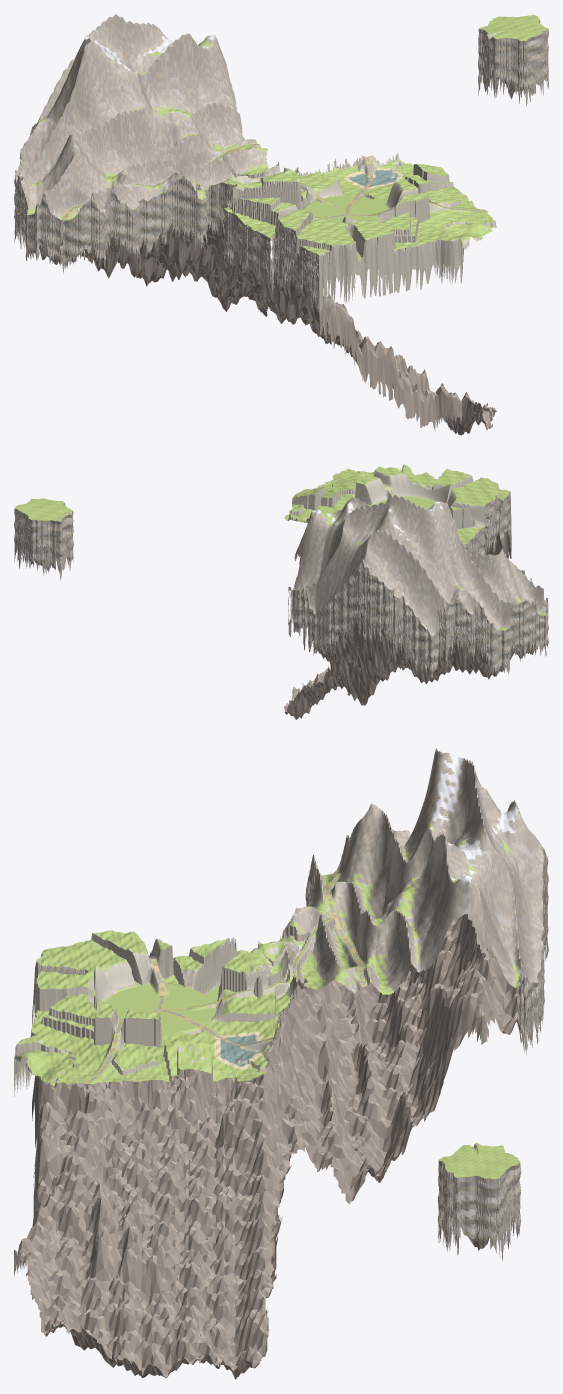
File: Floor1_Ancient_Ruins.fbx
3 renders of one model, top to bottom at view 1: azimuth 30°, elevation 25°; view 2: azimuth 150°, elevation 25°; view 3: azimuth 270°, elevation 25°, orthographic. The views are drawn at different scales.
Visible parts, largest first — view 1: Ancient_Ruins_Top__F1_Ruins_Stone_3, Cloudridge_Peaks_Top__F1_Rock_7, Cloudridge_Peaks_Top__F1_Rock_10, Cloudridge_Peaks_Top__F1_Rock_1, Cloudridge_Peaks_Top__F1_Rock_Strata_4, Ancient_Ruins_Underside__F1_Rock_Under_Strata_6, Cloudridge_Peaks_Cliffs__F1_Rock_Strata_6, Cloudridge_Peaks_Cliffs__F1_Rock_6, Cloudridge_Peaks_Cliffs__F1_Rock_Light_6, Ancient_Ruins_Top__F1_Ruins_Stone_1, Cloudridge_Peaks_Top__F1_Rock_29, Cloudridge_Peaks_Top__F1_Rock_Strata_9 (+59 smaller); view 2: Cloudridge_Peaks_Cliffs__F1_Rock_Light_9, Cloudridge_Peaks_Cliffs__F1_Rock_9, Cloudridge_Peaks_Cliffs__F1_Rock_Strata_8, Cloudridge_Peaks_Cliffs__F1_Rock_4, Cloudridge_Peaks_Cliffs__F1_Rock_Light_4, Cloudridge_Peaks_Cliffs__F1_Rock_Strata_4, Cloudridge_Peaks_Top__F1_Rock_1, Cloudridge_Peaks_Top__F1_Rock_4, Secret_Cloud_Perch_Cliffs__F1_Rock, Ancient_Ruins_Top__F1_Ruins_Stone_3, Cloudridge_Peaks_Top__F1_Rock_15, Cloudridge_Peaks_Top__F1_Rock_Strata_4 (+56 smaller); view 3: Ancient_Ruins_Underside__F1_Rock_Under_22, Ancient_Ruins_Underside__F1_Rock_Under_Strata_6, Ancient_Ruins_Underside__F1_Rock_Under_Strata_25, Ancient_Ruins_Underside__F1_Rock_Under_19, Ancient_Ruins_Underside__F1_Rock_Under_24, Ancient_Ruins_Underside__F1_Rock_Under_Strata_20, Cloudridge_Peaks_Underside__F1_Rock_Under_18, Ancient_Ruins_Underside__F1_Rock_Under_Strata_13, Cloudridge_Peaks_Underside__F1_Rock_Under_Strata_12, Cloudridge_Peaks_Underside__F1_Rock_Under_21, Cloudridge_Peaks_Underside__F1_Rock_Under_Strata_10, Ancient_Ruins_Underside__F1_Rock_Under_14 (+69 smaller).
Boxes of the visible parts, x1,y1,x2,y2 form: Ancient_Ruins_Top__F1_Ruins_Stone_3: [275, 204, 425, 310]; Cloudridge_Peaks_Top__F1_Rock_7: [100, 109, 190, 185]; Cloudridge_Peaks_Top__F1_Rock_10: [71, 14, 159, 103]; Cloudridge_Peaks_Top__F1_Rock_1: [19, 124, 118, 219]; Cloudridge_Peaks_Top__F1_Rock_Strata_4: [31, 77, 139, 184]; Ancient_Ruins_Underside__F1_Rock_Under_Strata_6: [266, 272, 404, 404]; Cloudridge_Peaks_Cliffs__F1_Rock_Strata_6: [99, 183, 216, 256]; Cloudridge_Peaks_Cliffs__F1_Rock_6: [99, 176, 216, 257]; Cloudridge_Peaks_Cliffs__F1_Rock_Light_6: [99, 179, 216, 258]; Ancient_Ruins_Top__F1_Ruins_Stone_1: [227, 167, 318, 233]; Cloudridge_Peaks_Top__F1_Rock_29: [164, 58, 260, 159]; Cloudridge_Peaks_Top__F1_Rock_Strata_9: [121, 82, 187, 185]; Cloudridge_Peaks_Cliffs__F1_Rock_Light_9: [348, 567, 439, 673]; Cloudridge_Peaks_Cliffs__F1_Rock_9: [348, 564, 439, 674]; Cloudridge_Peaks_Cliffs__F1_Rock_Strata_8: [348, 563, 439, 672]; Cloudridge_Peaks_Cliffs__F1_Rock_4: [461, 599, 548, 668]; Cloudridge_Peaks_Cliffs__F1_Rock_Light_4: [461, 591, 548, 667]; Cloudridge_Peaks_Cliffs__F1_Rock_Strata_4: [461, 605, 548, 665]; Cloudridge_Peaks_Top__F1_Rock_1: [466, 549, 547, 613]; Cloudridge_Peaks_Top__F1_Rock_4: [419, 551, 483, 614]; Secret_Cloud_Perch_Cliffs__F1_Rock: [14, 500, 73, 580]; Ancient_Ruins_Top__F1_Ruins_Stone_3: [395, 469, 510, 527]; Cloudridge_Peaks_Top__F1_Rock_15: [361, 498, 436, 566]; Cloudridge_Peaks_Top__F1_Rock_Strata_4: [419, 553, 494, 613]; Ancient_Ruins_Underside__F1_Rock_Under_22: [22, 1216, 186, 1377]; Ancient_Ruins_Underside__F1_Rock_Under_Strata_6: [33, 1069, 187, 1224]; Ancient_Ruins_Underside__F1_Rock_Under_Strata_25: [23, 1219, 182, 1376]; Ancient_Ruins_Underside__F1_Rock_Under_19: [184, 1017, 297, 1224]; Ancient_Ruins_Underside__F1_Rock_Under_24: [183, 1220, 279, 1379]; Ancient_Ruins_Underside__F1_Rock_Under_Strata_20: [183, 1222, 279, 1376]; Cloudridge_Peaks_Underside__F1_Rock_Under_18: [288, 1005, 349, 1201]; Ancient_Ruins_Underside__F1_Rock_Under_Strata_13: [184, 1113, 268, 1223]; Cloudridge_Peaks_Underside__F1_Rock_Under_Strata_12: [344, 1050, 416, 1192]; Cloudridge_Peaks_Underside__F1_Rock_Under_21: [344, 1051, 413, 1203]; Cloudridge_Peaks_Underside__F1_Rock_Under_Strata_10: [288, 1002, 349, 1187]; Ancient_Ruins_Underside__F1_Rock_Under_14: [33, 1118, 106, 1229].
Bounding box in the file's own units: 884423 × 567833 × 567691.
